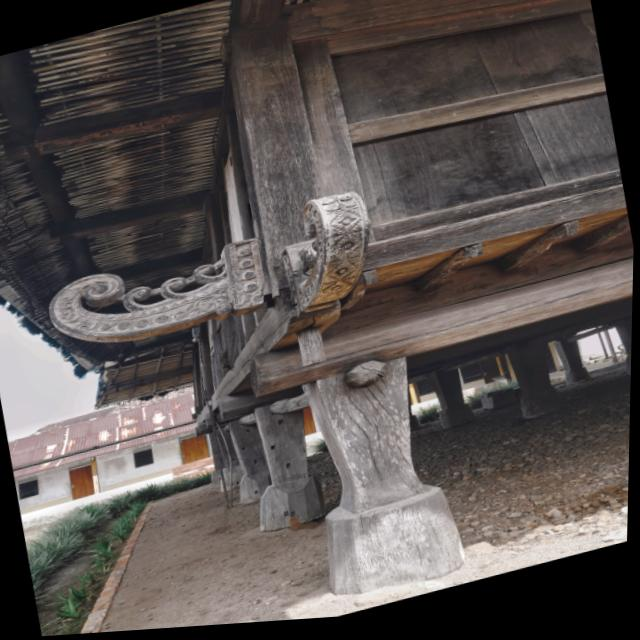Atap: (0, 0, 326, 373)
Kolom: (228, 416, 273, 504)
Ornamen: (49, 237, 272, 341), (281, 192, 369, 317)
